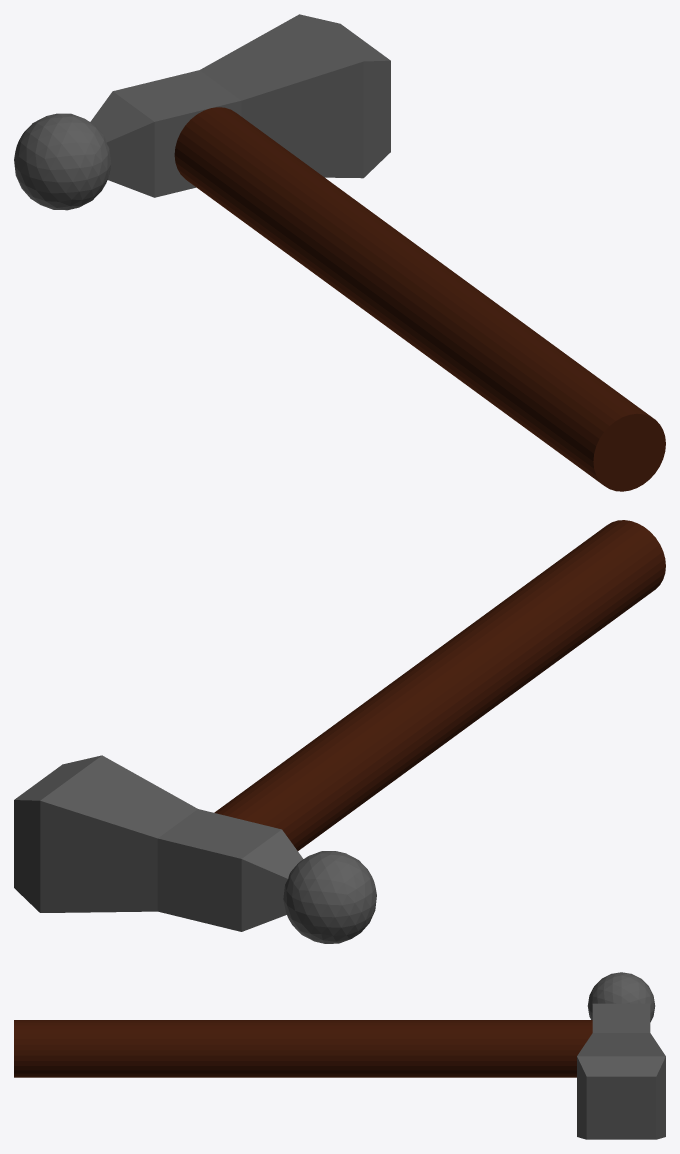
Rendered from HAMMER LMAO.fbx.
3 renders of one model, top to bottom at view 1: azimuth 30°, elevation 25°; view 2: azimuth 150°, elevation 25°; view 3: azimuth 270°, elevation 25°, orthographic. The views are drawn at different scales.
Parts seen in each view (by area): view 1: Cylinder, Cube, Icosphere; view 2: Cylinder, Cube, Icosphere; view 3: Cylinder, Cube, Icosphere.
Part boxes in pixels (x1=…): Cylinder: x1=174, y1=107, x2=665, y2=491; Cube: x1=90, y1=14, x2=390, y2=197; Icosphere: x1=14, y1=113, x2=111, y2=210; Cylinder: x1=214, y1=520, x2=665, y2=850; Cube: x1=14, y1=755, x2=303, y2=931; Icosphere: x1=283, y1=851, x2=376, y2=943; Cylinder: x1=14, y1=1020, x2=592, y2=1077; Cube: x1=577, y1=1003, x2=665, y2=1139; Icosphere: x1=587, y1=972, x2=655, y2=1022.
Size of the model in its own units: 952 by 308 by 2254.
